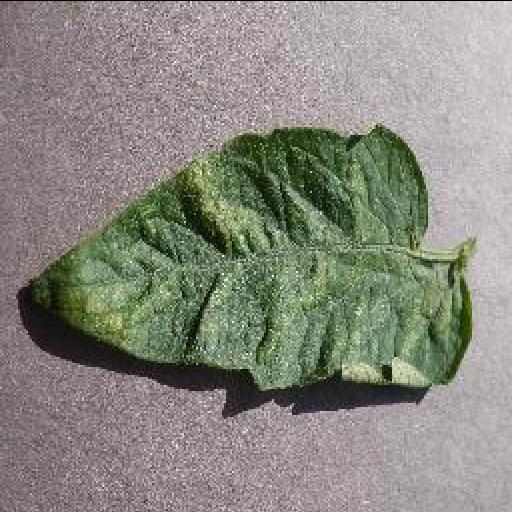disease_tomato: (36, 124, 476, 388)
